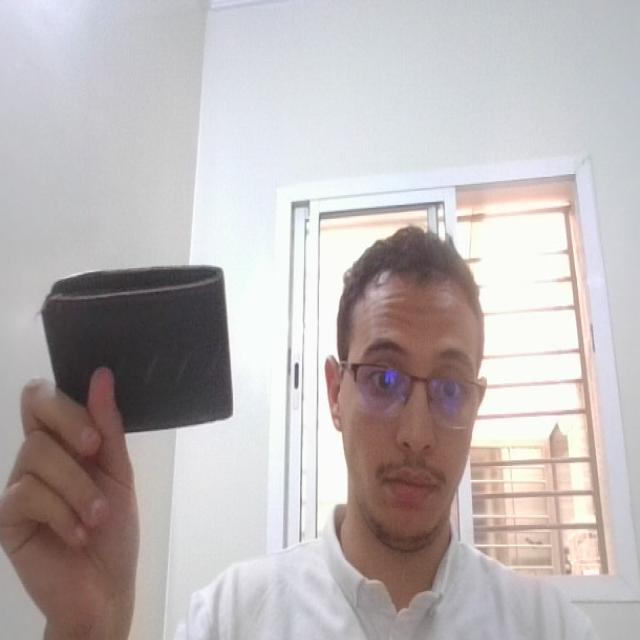wallet: (40, 259, 249, 454)
